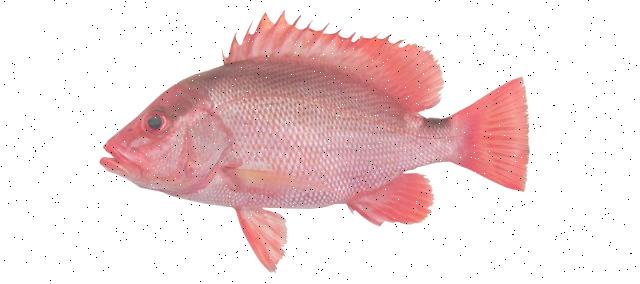Mulut: (90, 134, 126, 183)
Sirip Anal: (349, 170, 439, 235)
Sirip Dada: (216, 156, 332, 202)
Sirip Ekor: (470, 70, 538, 202)
Sirip Perut: (227, 198, 293, 278)
Sirip Punggung: (218, 4, 446, 114)
